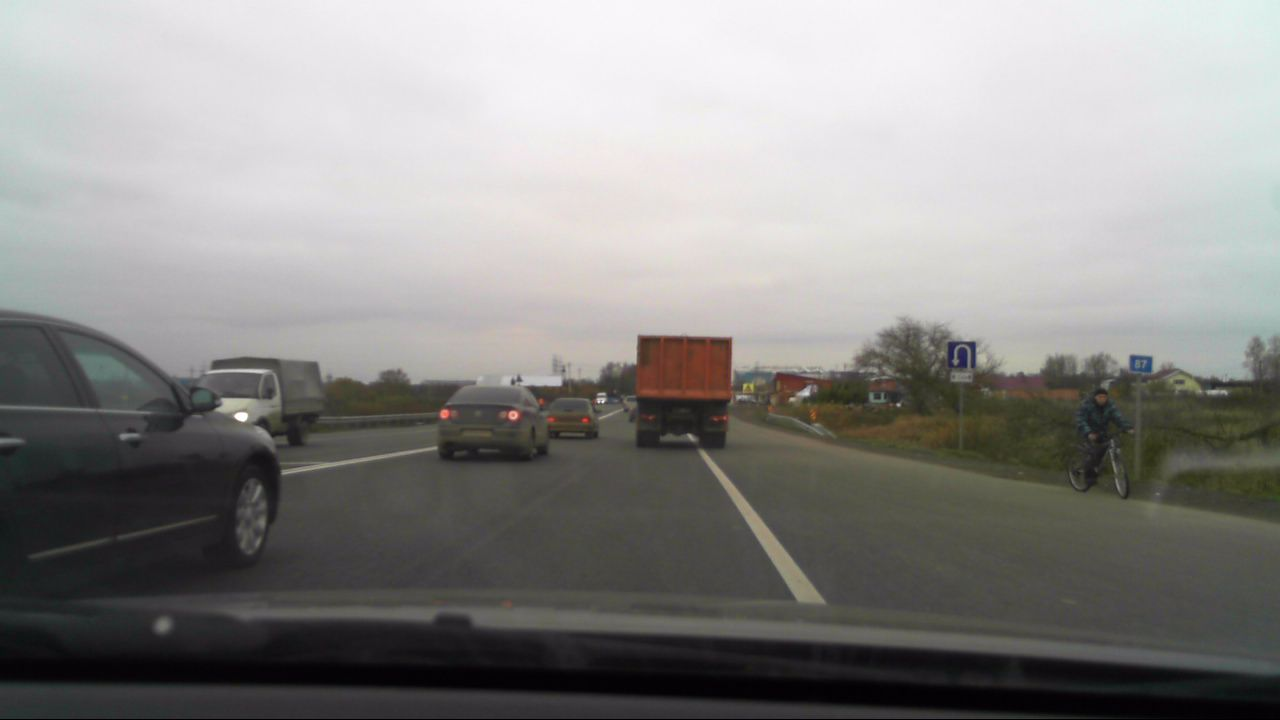U-turn: (948, 341, 976, 369)
